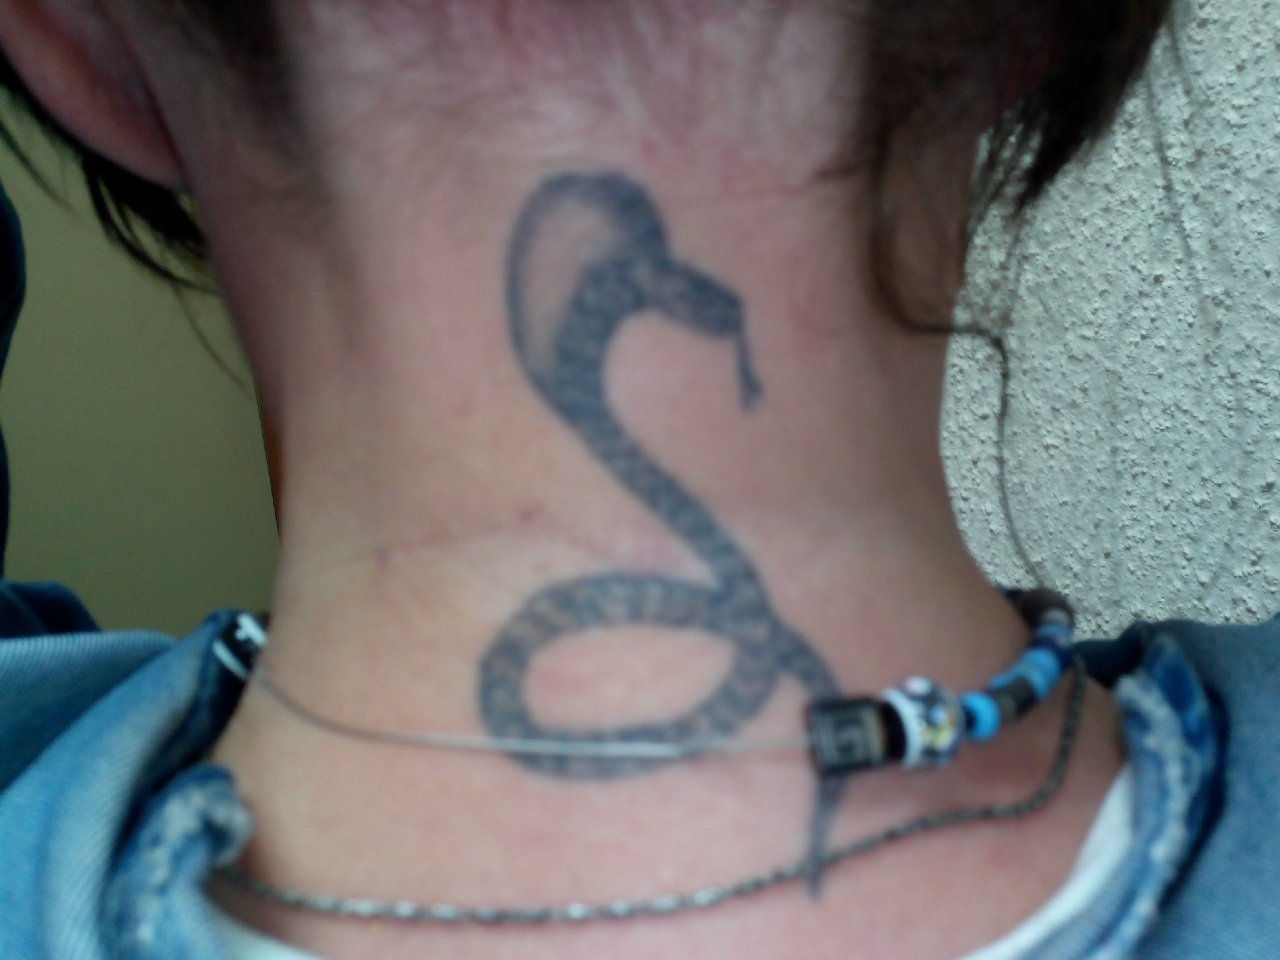tatu7_zmeya: (437, 121, 841, 880)
